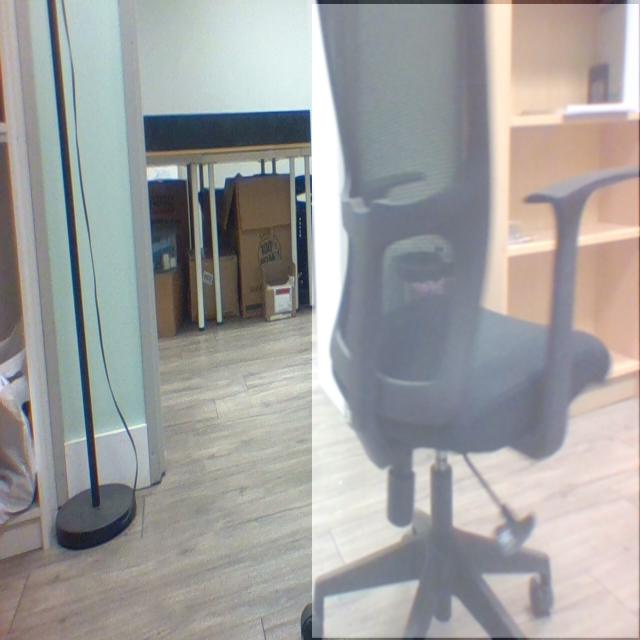black-chair: (312, 4, 640, 639)
